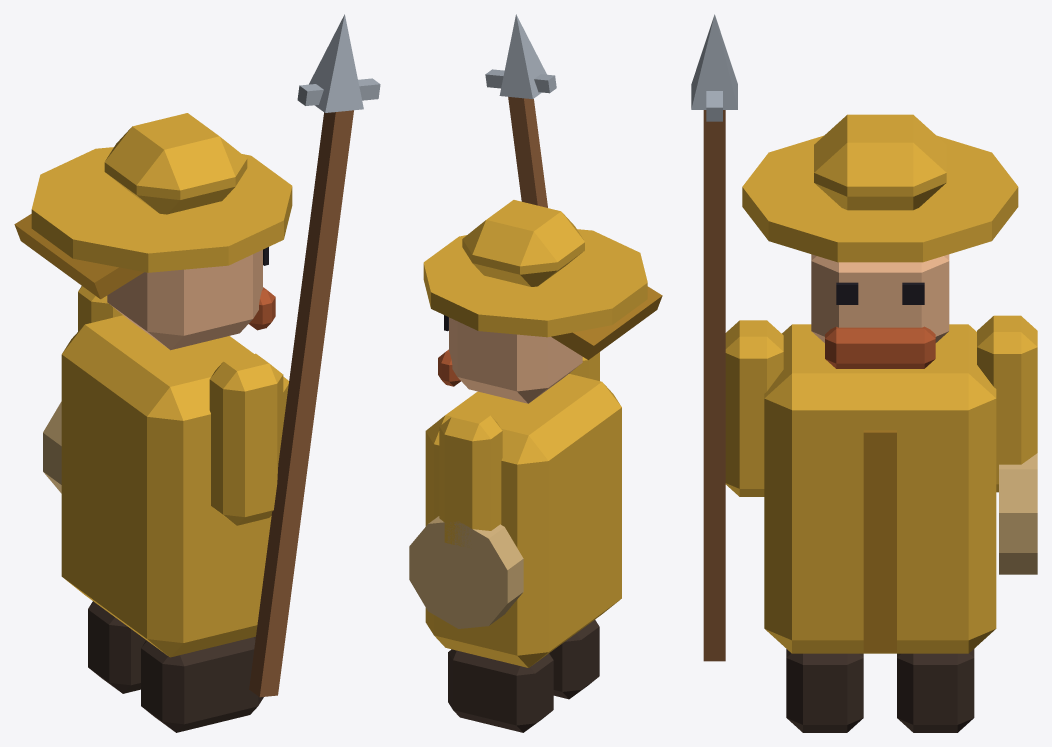
Rendered from harpooner.glb.
3 views of the same model, side by side, from view 1: azimuth 30°, elevation 25°; view 2: azimuth 150°, elevation 25°; view 3: azimuth 270°, elevation 25° (orthographic). The views are drawn at different scales.
Parts seen in each view (by area): view 1: harpooner; view 2: harpooner; view 3: harpooner.
Boxes of the visible parts, x1,y1,x2,y2 form: harpooner: [14, 14, 380, 732]; harpooner: [409, 14, 662, 732]; harpooner: [691, 14, 1037, 732].
Bounding box in the file's own units: 0.5291 × 1.49 × 0.6274.
